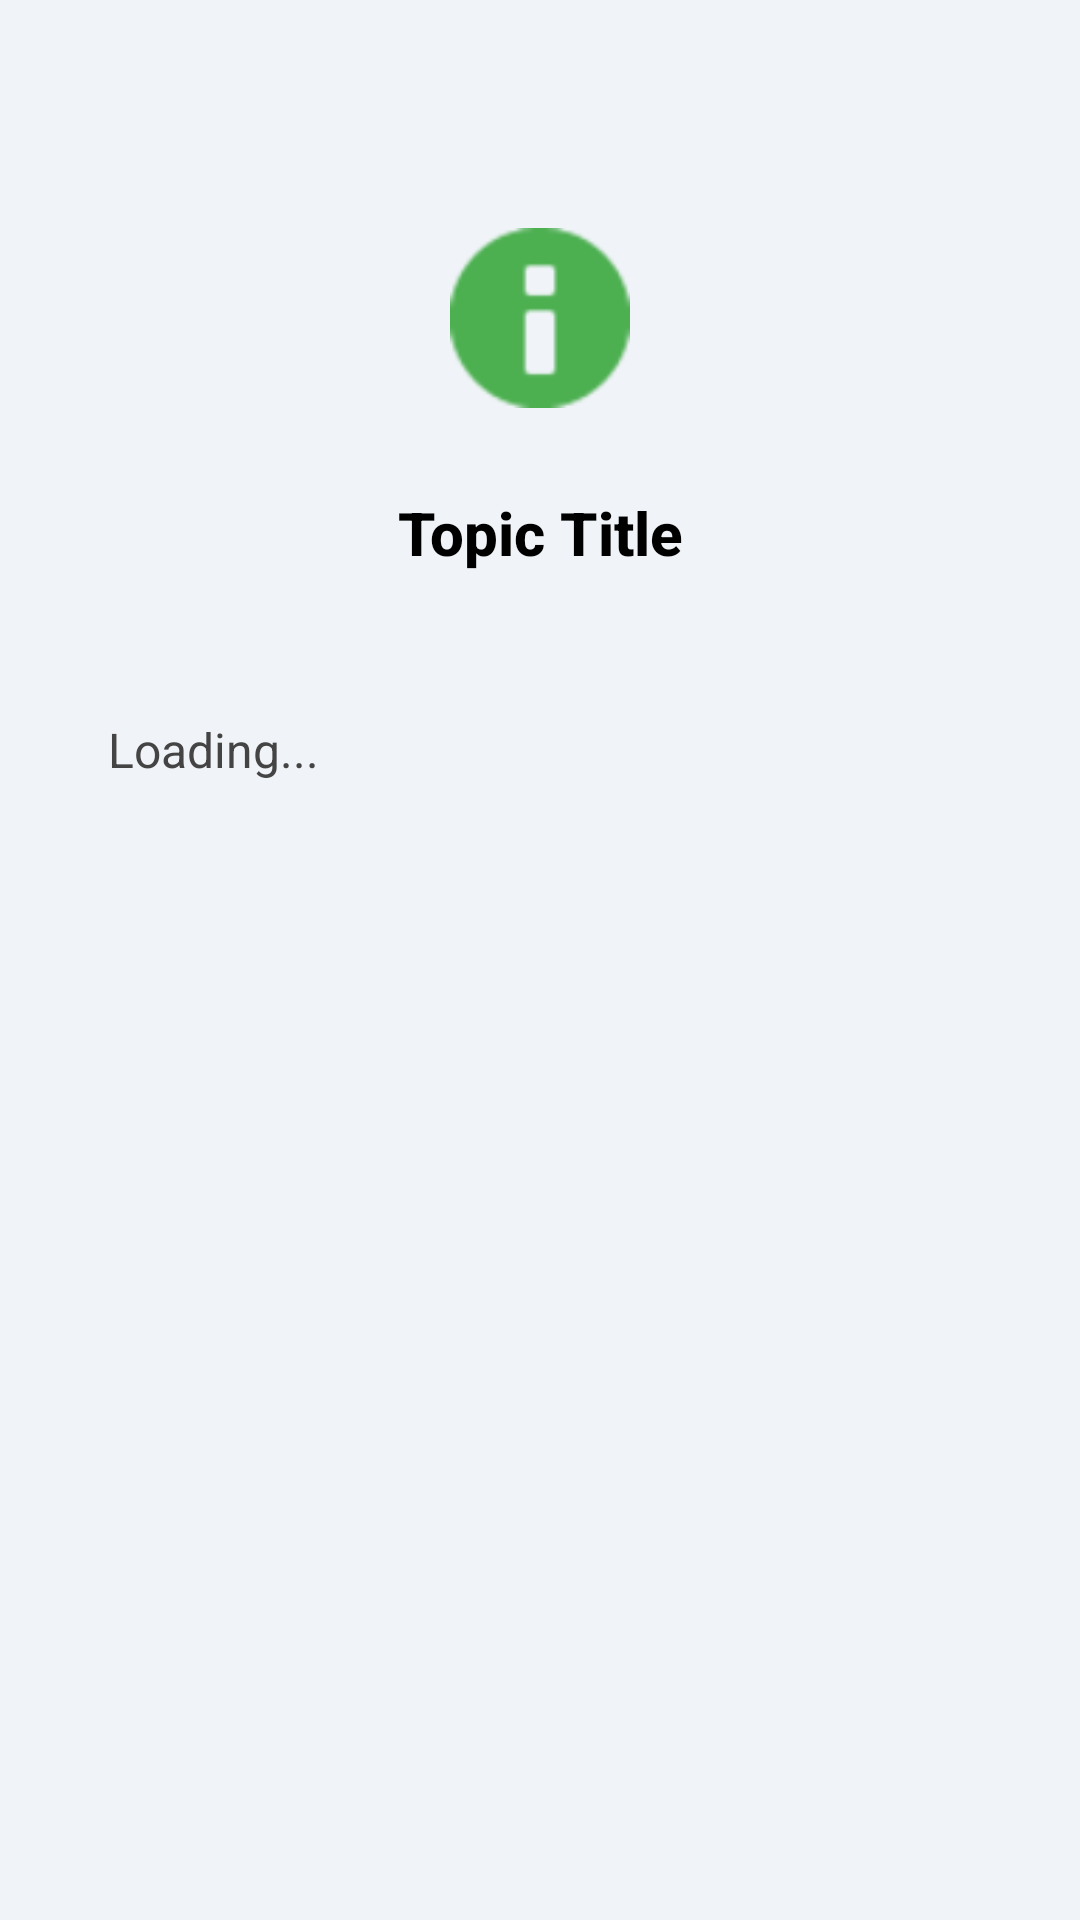

Where icons sit on this 1080 × 1920 app screen, as (x1, y1, x2, y2):
info: (450, 228, 630, 408)
